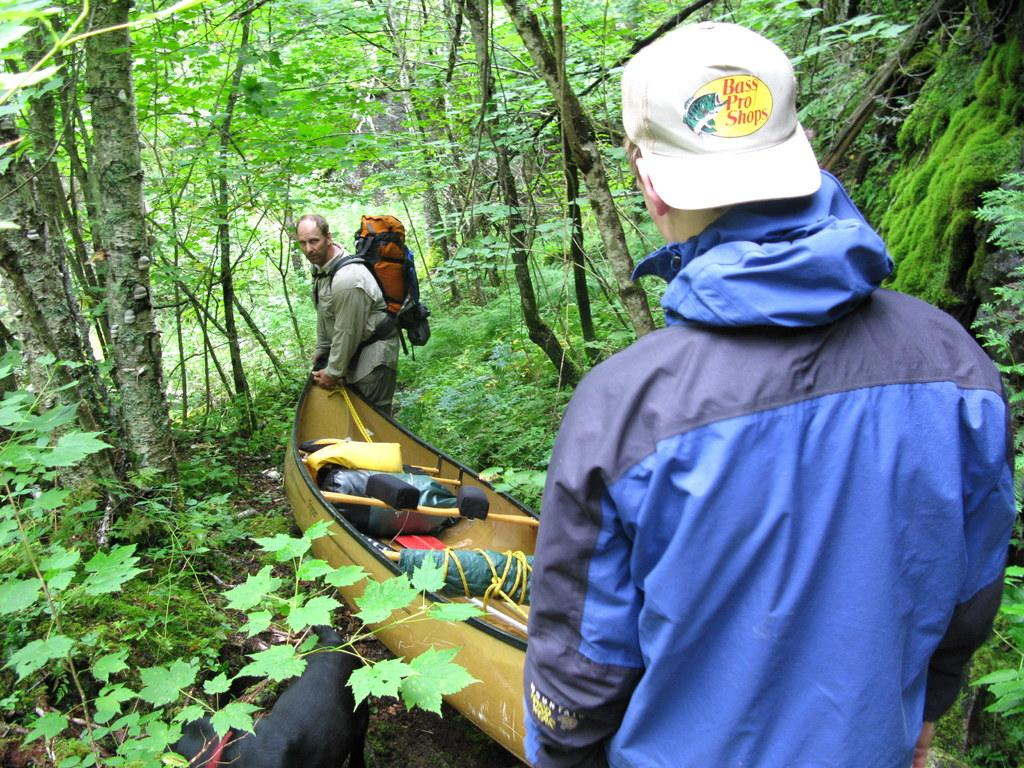Hat: (619, 19, 821, 210)
